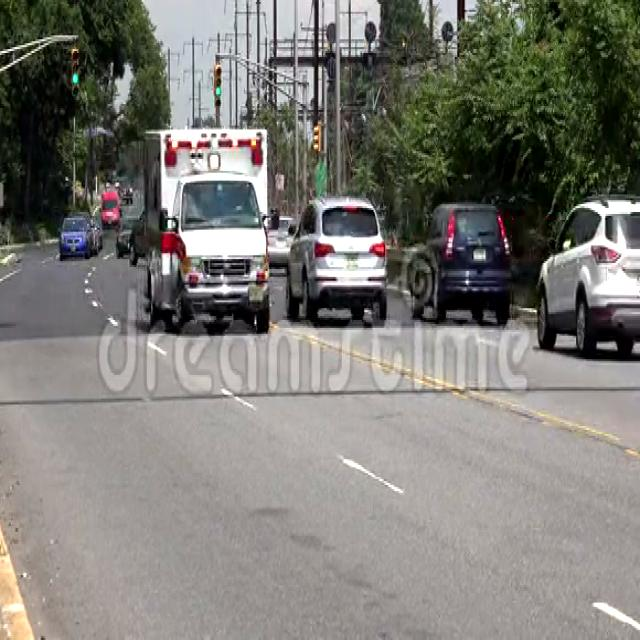ambulance: (142, 128, 280, 330)
